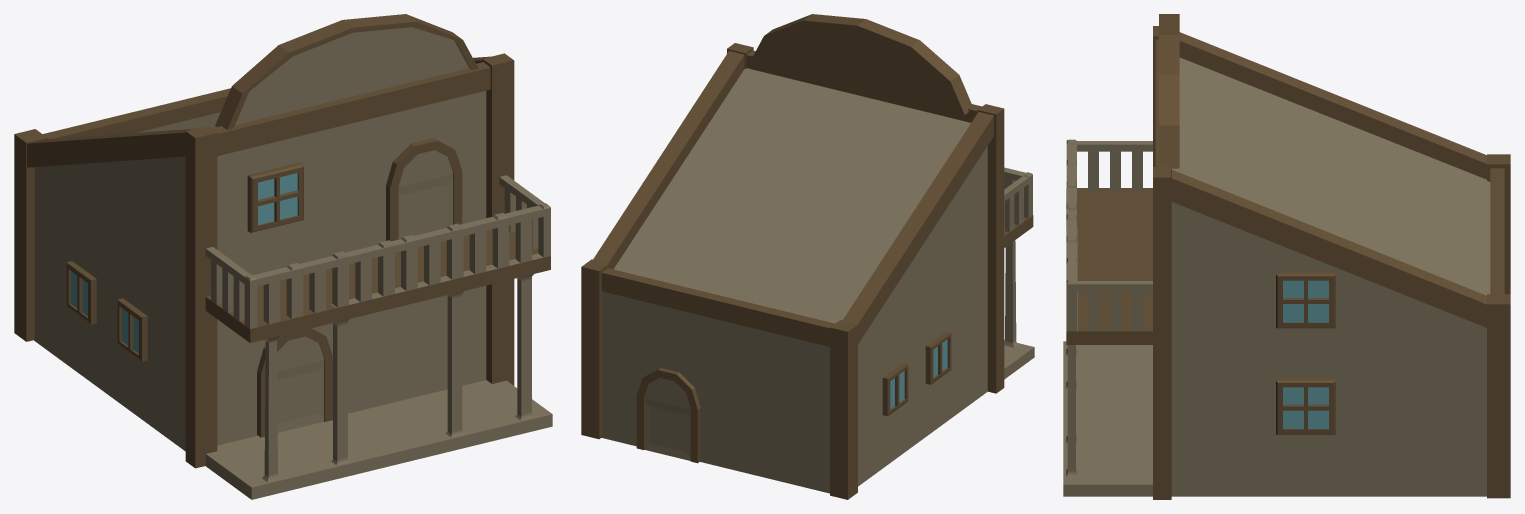
Rendered from Bank_01.fbx.
The picture shows the model from 3 angles, left to right: view 1: azimuth 30°, elevation 25°; view 2: azimuth 150°, elevation 25°; view 3: azimuth 270°, elevation 25°; orthographic projection. The views are drawn at different scales.
Parts seen in each view (by area): view 1: Bank; view 2: Bank; view 3: Bank.
Boxes of the visible parts, bbox=[...] form: Bank: bbox=[14, 14, 552, 499]; Bank: bbox=[581, 14, 1034, 499]; Bank: bbox=[1063, 14, 1510, 499].
Size of the model in its own units: 439 by 525 by 546.
